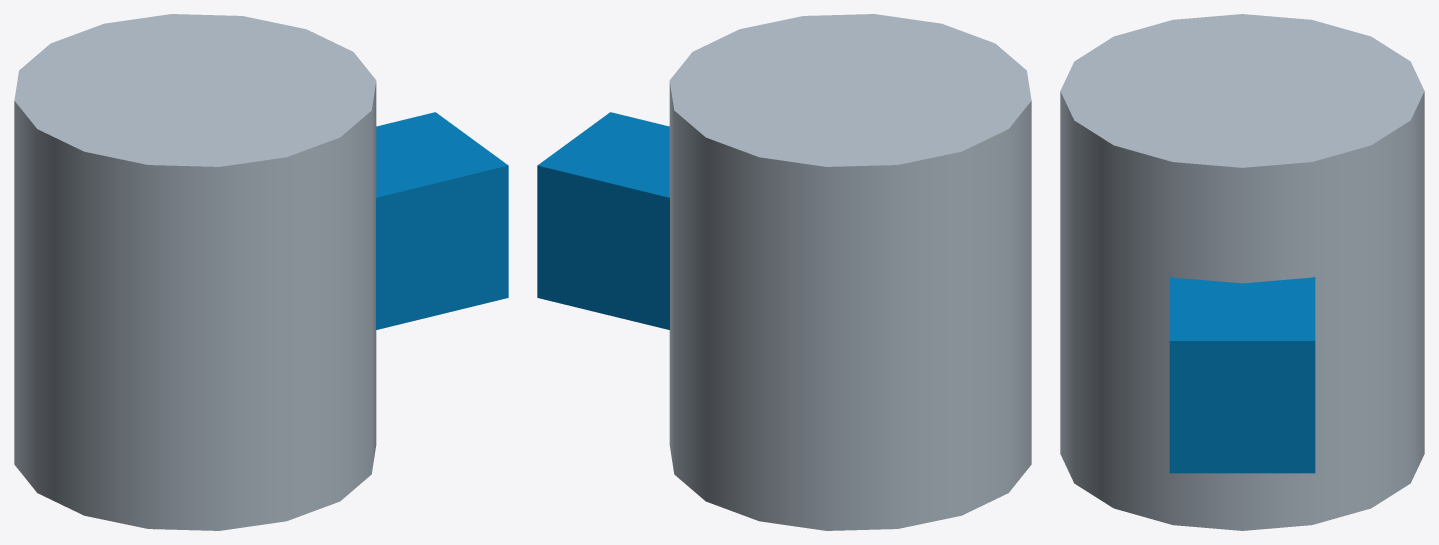
File: fit-zone-damper-round.glb
3 renders of one model, left to right at view 1: azimuth 30°, elevation 25°; view 2: azimuth 150°, elevation 25°; view 3: azimuth 270°, elevation 25°, orthographic.
Parts seen in each view (by area): view 1: hvac-fitting-zone-damper-round; view 2: hvac-fitting-zone-damper-round; view 3: hvac-fitting-zone-damper-round.
Boxes of the visible parts, x1,y1,x2,y2 form: hvac-fitting-zone-damper-round: (14, 14, 508, 530); hvac-fitting-zone-damper-round: (537, 14, 1031, 530); hvac-fitting-zone-damper-round: (1060, 14, 1424, 530).
Size of the model in its own units: 0.275 by 0.22 by 0.2.
